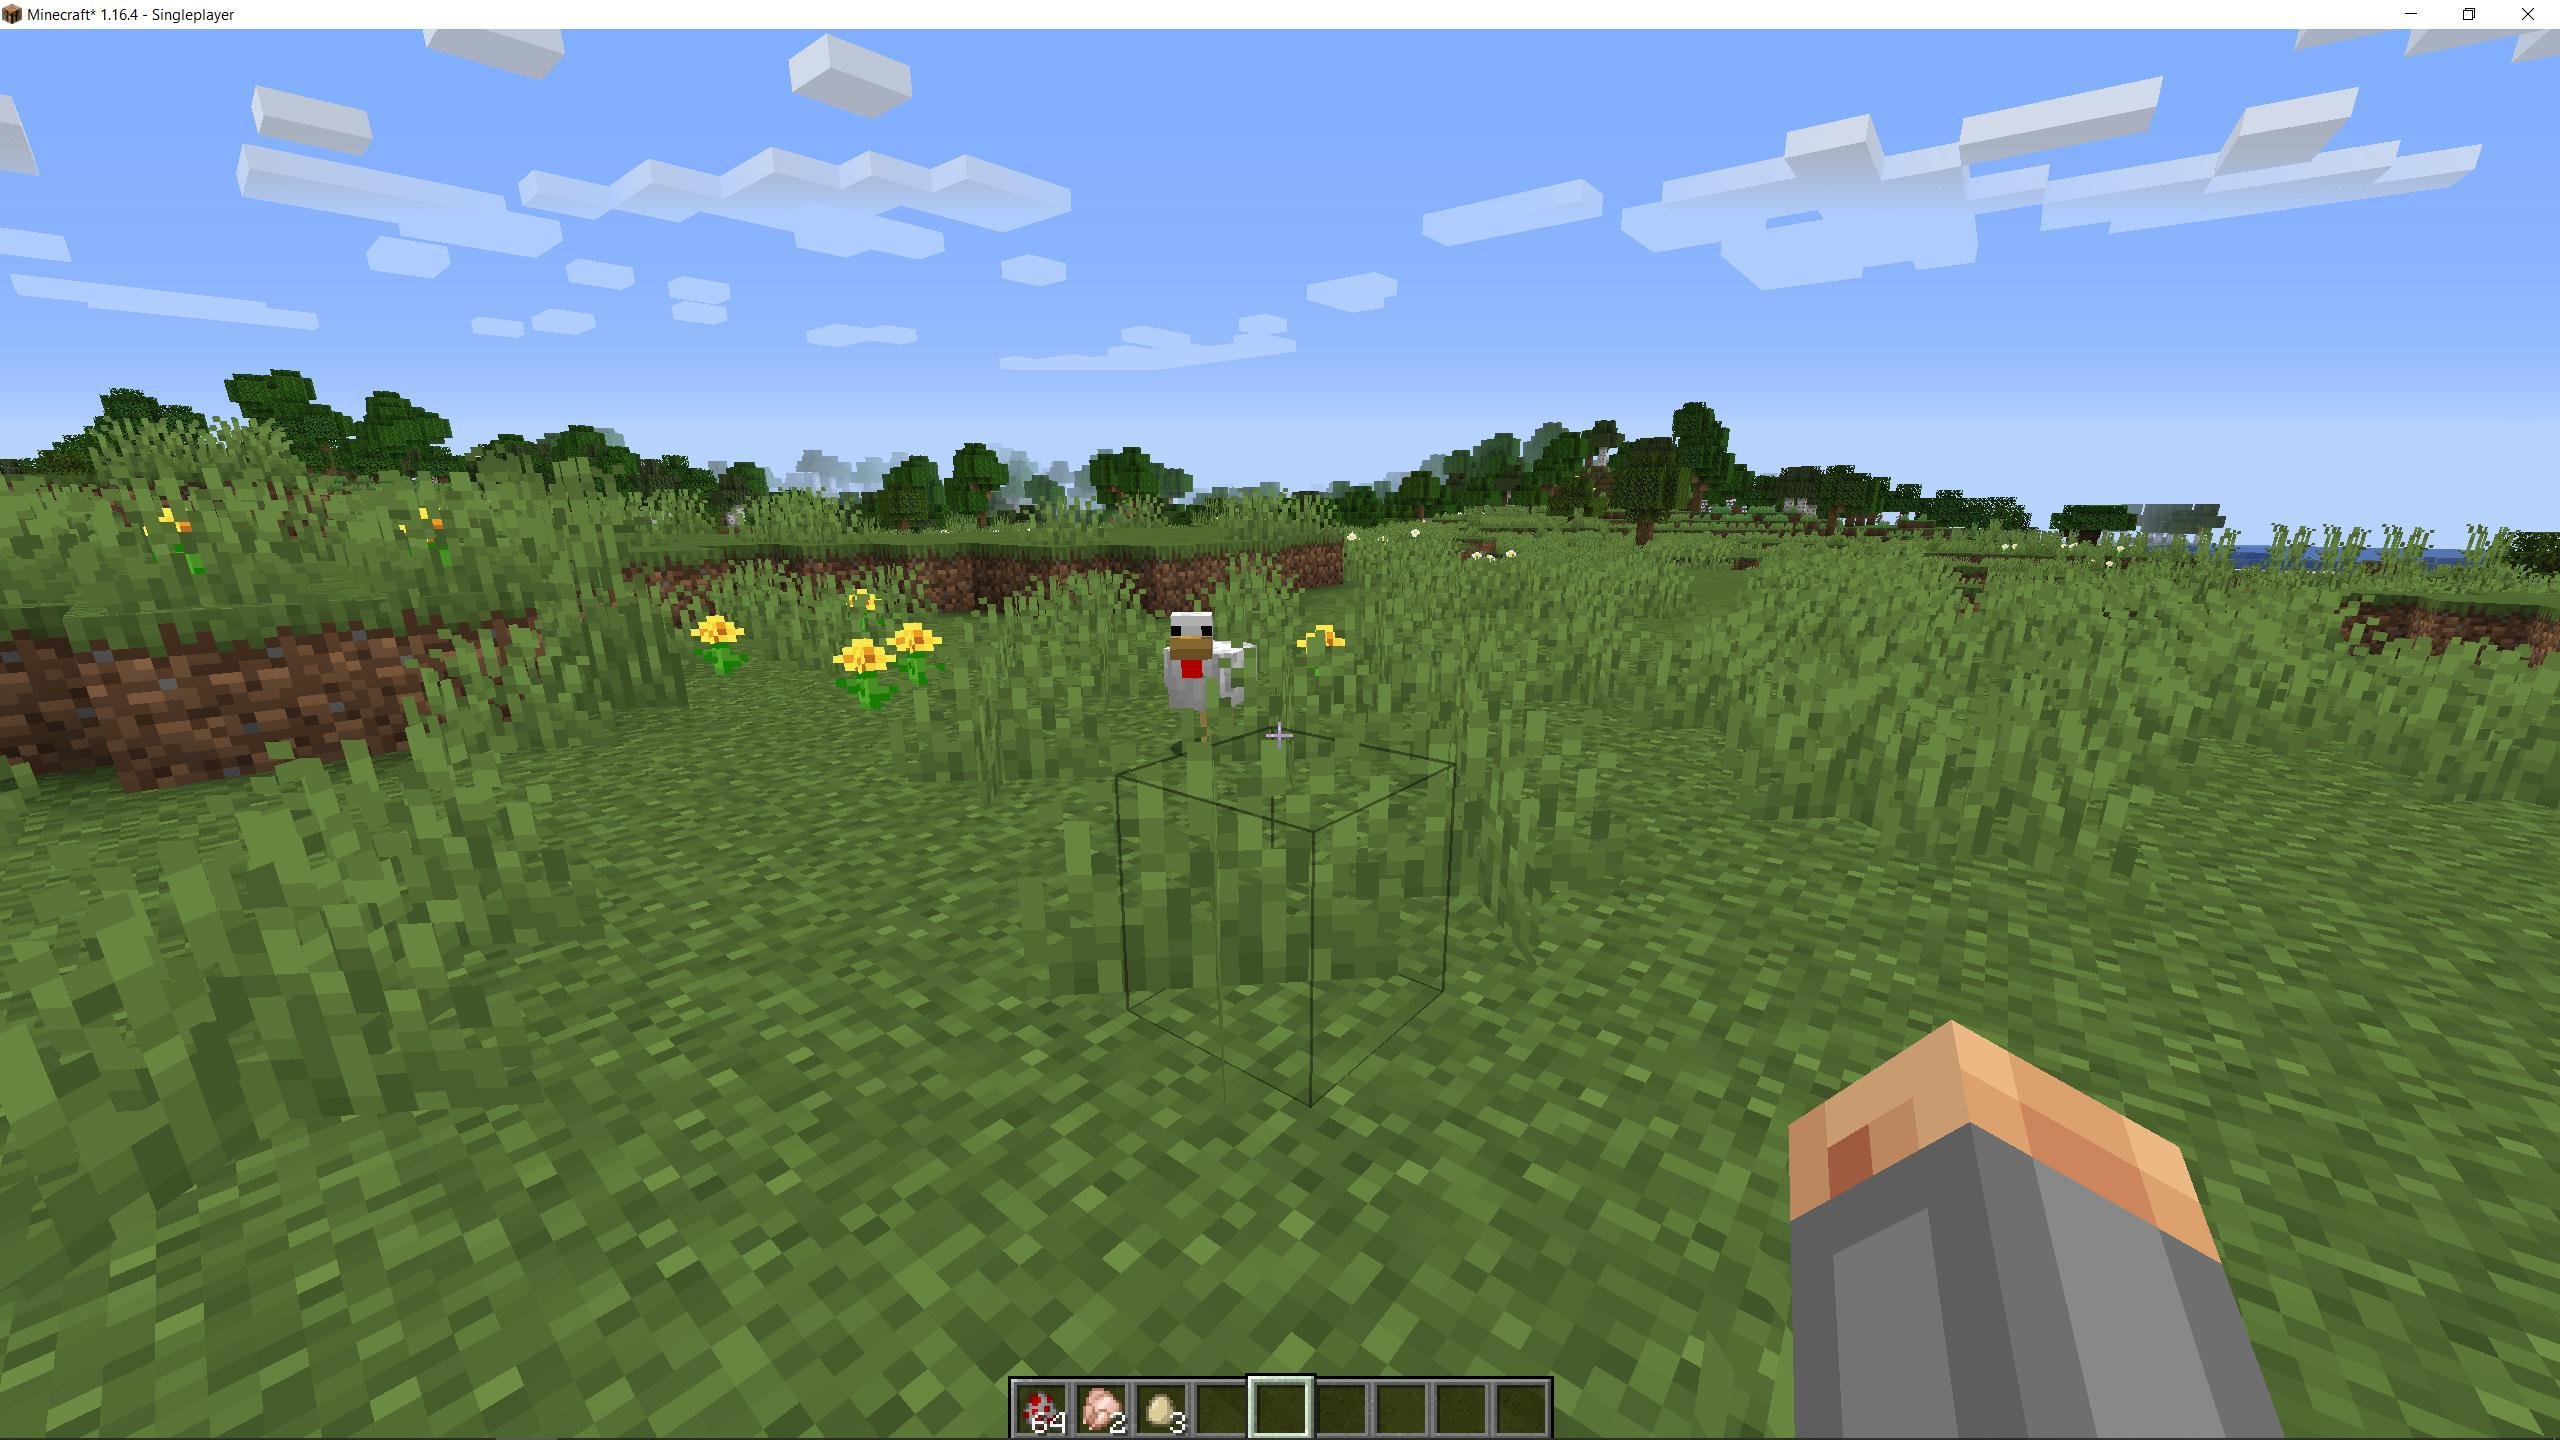chicken: (1141, 605, 1262, 761)
